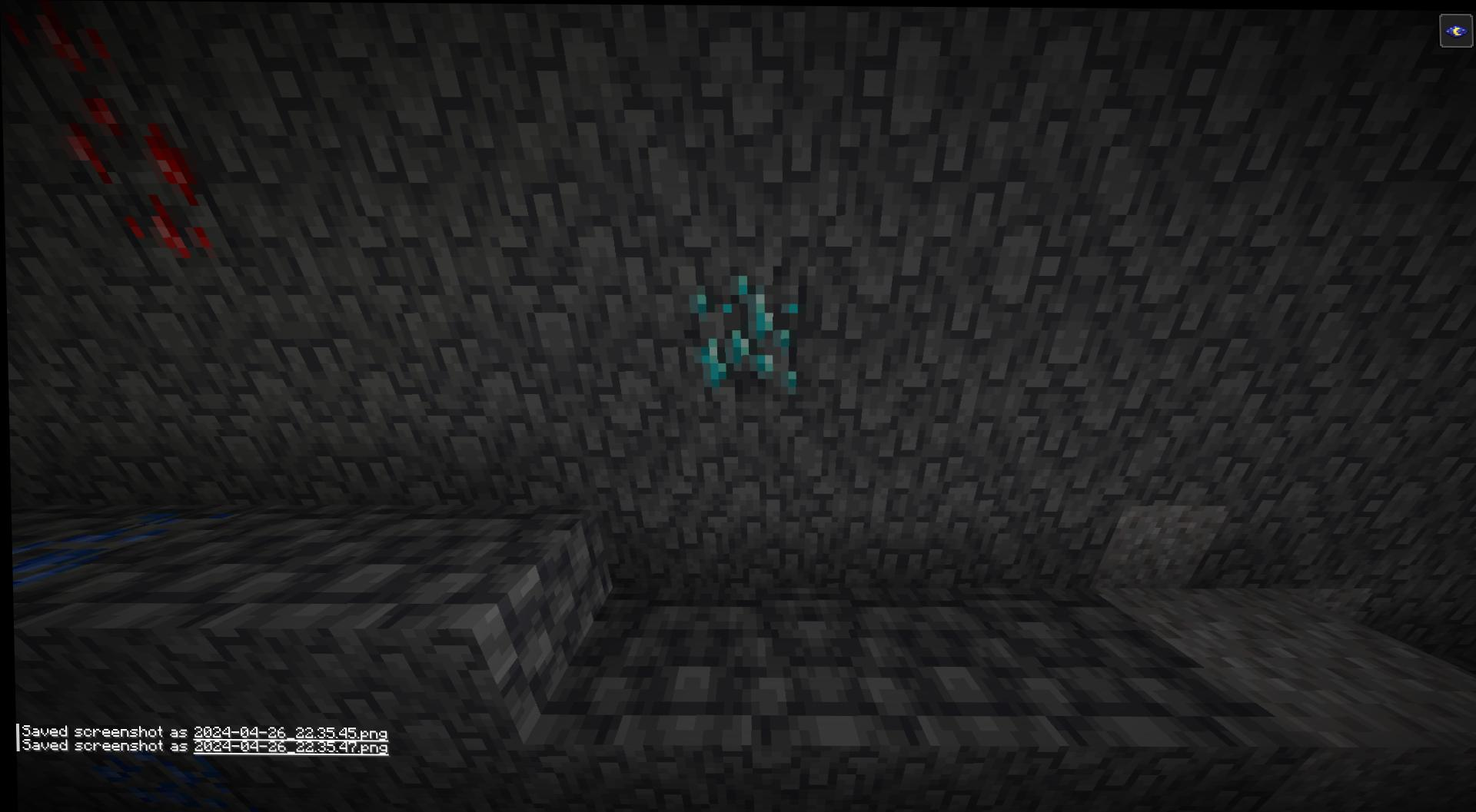diamond ore: (678, 275, 803, 393)
redstone ore: (14, 1, 234, 267)
